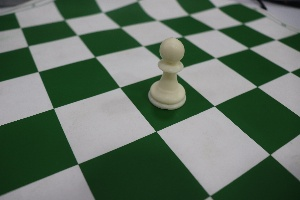white_pawn: (143, 29, 190, 114)
